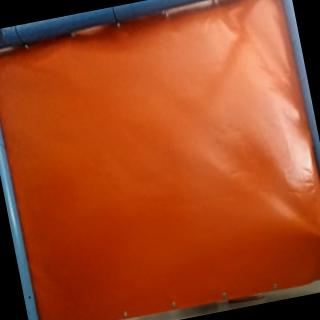Hit-hRxx: (309, 224, 320, 243)
